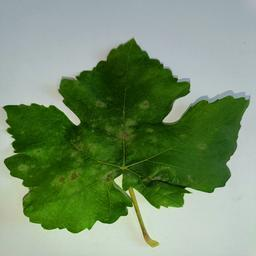Powdery-Mildew: (50, 153, 95, 195), (81, 137, 116, 159), (118, 116, 137, 143), (27, 145, 55, 162), (198, 137, 215, 153), (45, 201, 61, 218)
